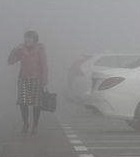person: (7, 30, 55, 137)
